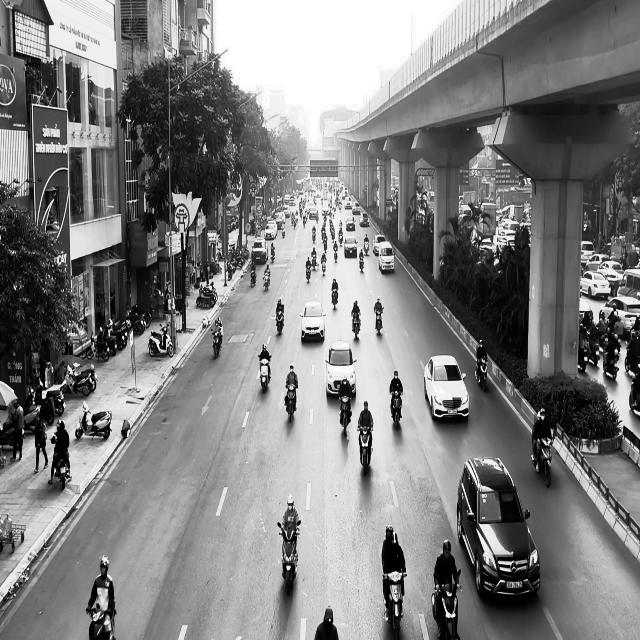car: (456, 456, 540, 598), (424, 354, 469, 421), (325, 339, 357, 397), (299, 300, 326, 342), (378, 242, 394, 273), (344, 235, 357, 257)
motorbike: (431, 568, 462, 640), (277, 521, 300, 594), (383, 570, 406, 639), (75, 400, 112, 440), (530, 430, 554, 487), (86, 605, 116, 639), (148, 322, 174, 358), (357, 424, 373, 474), (338, 393, 352, 437), (284, 382, 298, 422), (258, 354, 271, 393), (390, 389, 402, 429), (475, 357, 488, 392), (211, 328, 223, 358), (351, 313, 361, 339), (374, 307, 383, 334), (275, 310, 284, 334), (262, 272, 270, 291), (332, 287, 338, 309), (250, 266, 256, 287), (305, 263, 311, 282), (359, 251, 364, 273)
